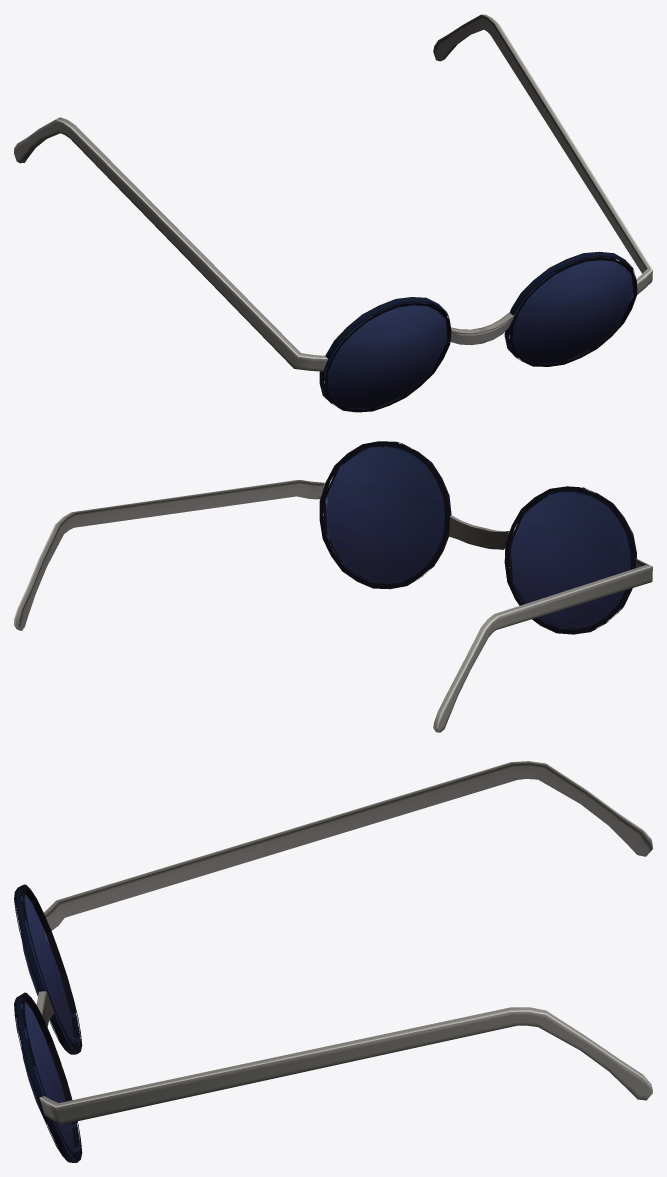
Rendered from gojoglasses.e743af.glb.
The picture shows the model from 3 angles, top to bottom: view 1: azimuth 30°, elevation 25°; view 2: azimuth 150°, elevation 25°; view 3: azimuth 270°, elevation 25°; orthographic projection. The views are drawn at different scales.
Parts seen in each view (by area): view 1: Object_8, Object_7; view 2: Object_8, Object_7; view 3: Object_7, Object_8.
Boxes of the visible parts, x1,y1,x2,y2 form: Object_8: (324, 257, 633, 409); Object_7: (14, 14, 652, 412); Object_8: (325, 446, 630, 629); Object_7: (14, 441, 652, 732); Object_7: (14, 761, 652, 1162); Object_8: (21, 889, 76, 1159).
Bounding box in the file's own units: 0.0874 × 0.0349 × 0.0939.
2 materials, 2 textured.
